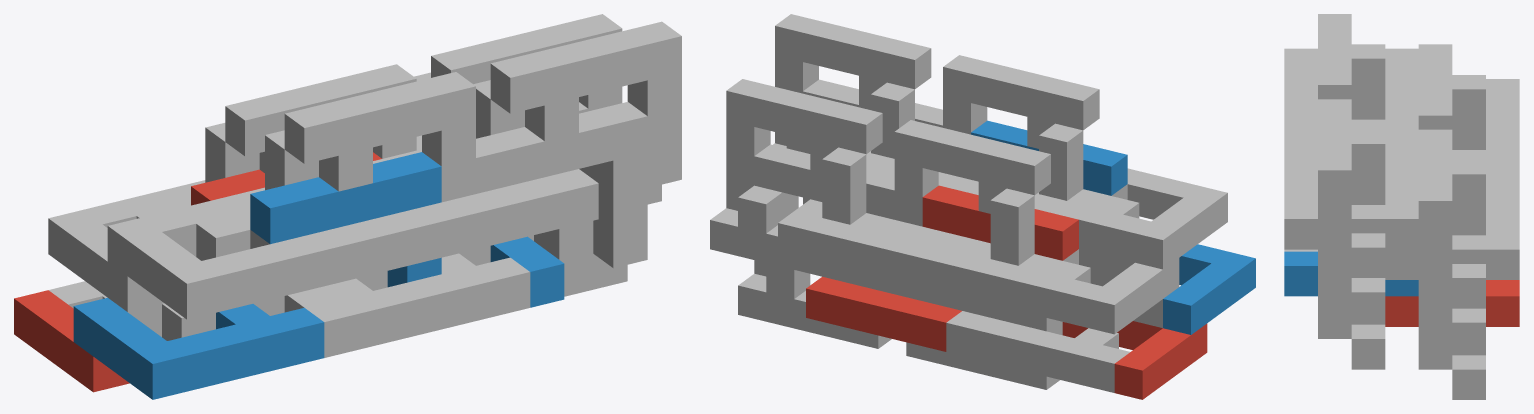
Rendered from tiling.obj.
3 views of the same model, side by side, from view 1: azimuth 30°, elevation 25°; view 2: azimuth 150°, elevation 25°; view 3: azimuth 270°, elevation 25° (orthographic). The views are drawn at different scales.
Visible parts, largest first — view 1: copy_4_domain_8, copy_1_domain_2, copy_4_domain_4, copy_1_domain_4, copy_4_domain_6, copy_1_domain_6, copy_4_domain_2, copy_1_domain_8, copy_2_domain_4, copy_4_domain_3, copy_4_domain_7, copy_1_domain_1 (+12 smaller); view 2: copy_4_domain_7, copy_4_domain_3, copy_4_domain_8, copy_4_domain_4, copy_3_domain_7, copy_2_domain_3, copy_2_domain_7, copy_2_domain_1, copy_1_domain_4, copy_2_domain_5, copy_3_domain_5, copy_3_domain_3 (+15 smaller); view 3: copy_4_domain_7, copy_4_domain_8, copy_2_domain_8, copy_3_domain_8, copy_3_domain_7, copy_2_domain_7, copy_2_domain_4, copy_4_domain_3, copy_1_domain_4, copy_4_domain_4, copy_1_domain_8, copy_2_domain_3 (+10 smaller).
Boxes of the visible parts, box(x1,y1,x2,y2) form: copy_4_domain_8: box(490, 21, 681, 187); copy_1_domain_2: box(73, 297, 324, 399); copy_4_domain_4: box(284, 72, 475, 202); copy_1_domain_4: box(107, 217, 358, 319); copy_4_domain_6: box(476, 102, 647, 268); copy_1_domain_6: box(322, 253, 530, 349); copy_4_domain_2: box(250, 152, 441, 287); copy_1_domain_8: box(373, 177, 564, 269); copy_2_domain_4: box(142, 187, 392, 277); copy_4_domain_3: box(225, 64, 416, 172); copy_4_domain_7: box(431, 14, 622, 111); copy_1_domain_1: box(14, 290, 129, 392); copy_4_domain_7: box(726, 79, 882, 210); copy_4_domain_3: box(894, 120, 1050, 226); copy_4_domain_8: box(775, 14, 931, 145); copy_4_domain_4: box(943, 55, 1099, 148); copy_3_domain_7: box(710, 147, 866, 283); copy_2_domain_3: box(946, 240, 1102, 327); copy_2_domain_7: box(778, 199, 933, 286); copy_2_domain_1: box(974, 317, 1129, 392); copy_1_domain_4: box(1112, 168, 1227, 269); copy_2_domain_5: box(806, 276, 961, 351); copy_3_domain_5: box(738, 213, 894, 348); copy_3_domain_3: box(878, 188, 1034, 324); copy_4_domain_7: box(1418, 129, 1452, 322); copy_4_domain_8: box(1318, 99, 1351, 292); copy_2_domain_8: box(1284, 148, 1418, 249); copy_3_domain_8: box(1351, 129, 1385, 322); copy_3_domain_7: box(1452, 160, 1485, 353); copy_2_domain_7: box(1385, 178, 1519, 279); copy_2_domain_4: box(1284, 62, 1418, 133); copy_4_domain_3: box(1418, 44, 1452, 129); copy_1_domain_4: box(1284, 48, 1418, 119); copy_4_domain_4: box(1318, 14, 1351, 99); copy_1_domain_8: box(1284, 134, 1418, 204); copy_2_domain_3: box(1452, 93, 1519, 164).
Size of the model in its own units: 16 by 8 by 7.
